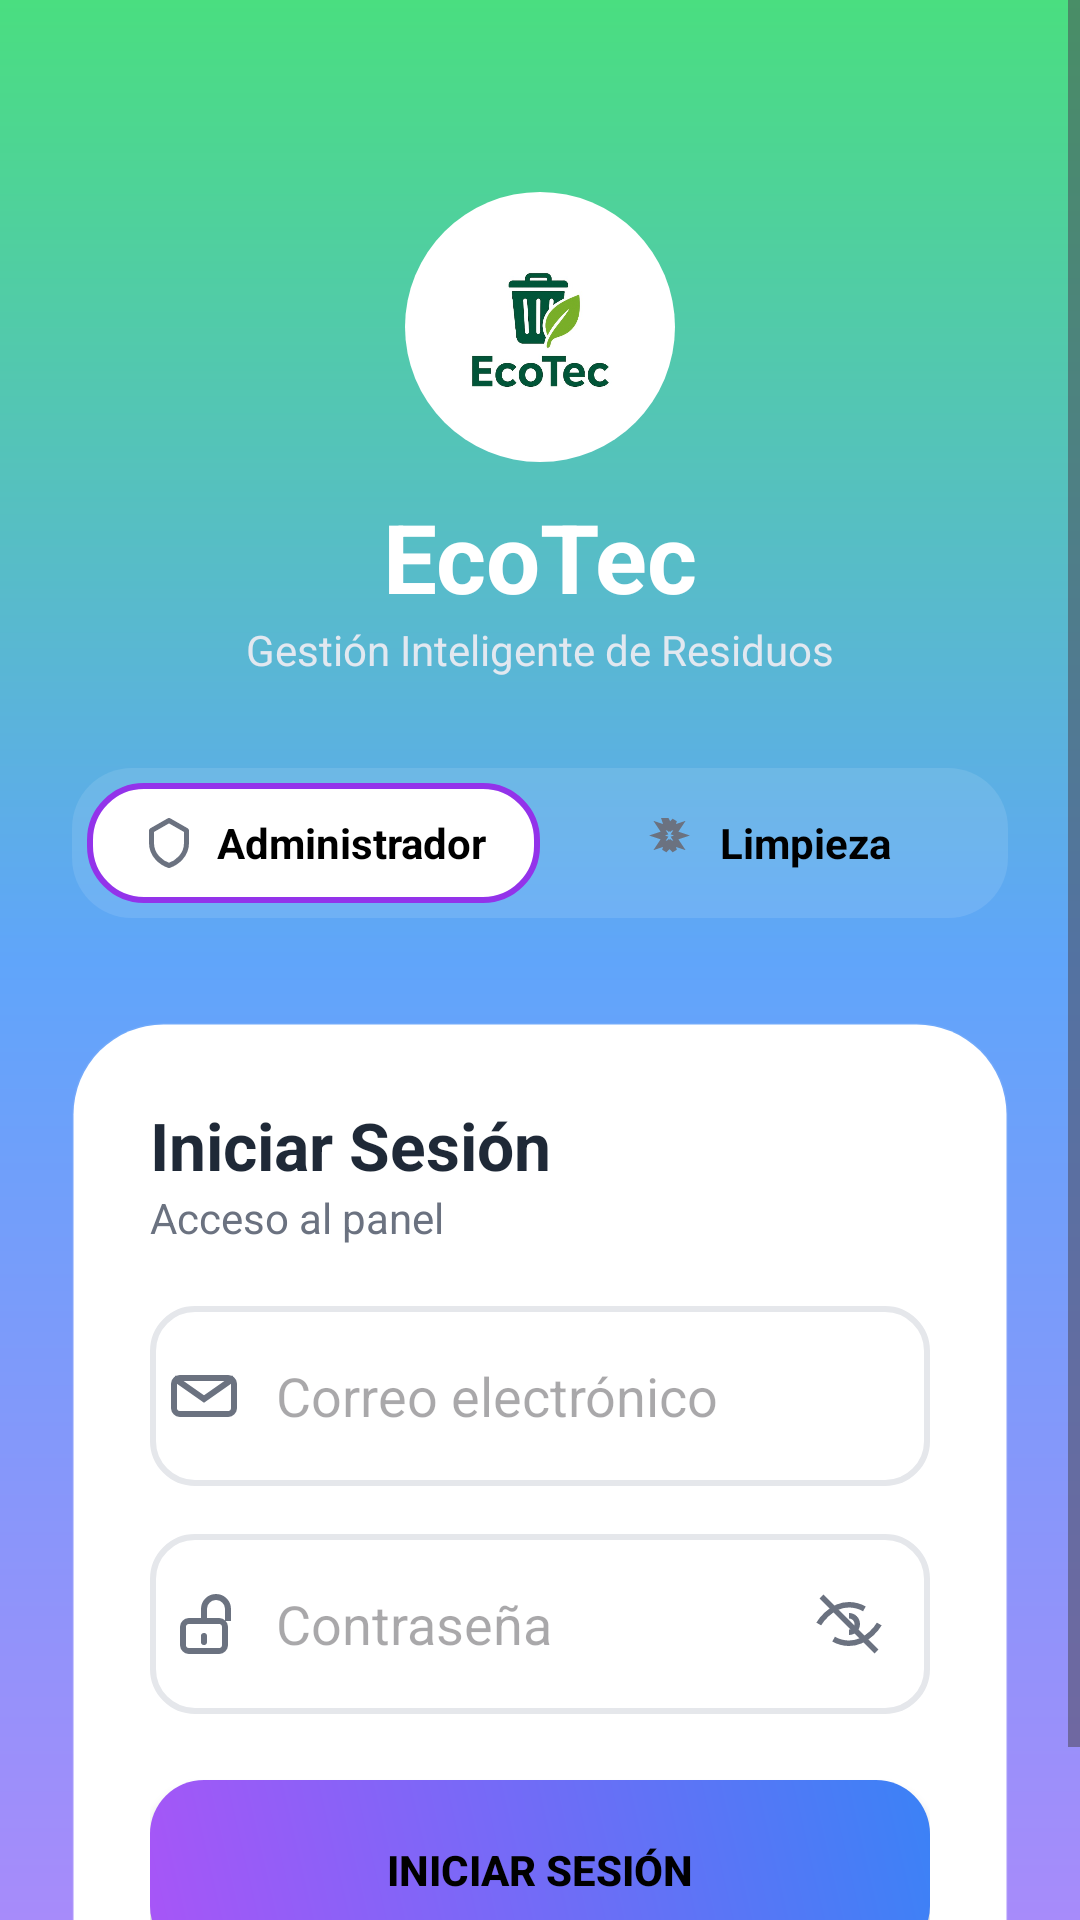

Icon click points for this 1080 × 1920 phone screenshot, format [x,y]:
eye off: [849,1624]
